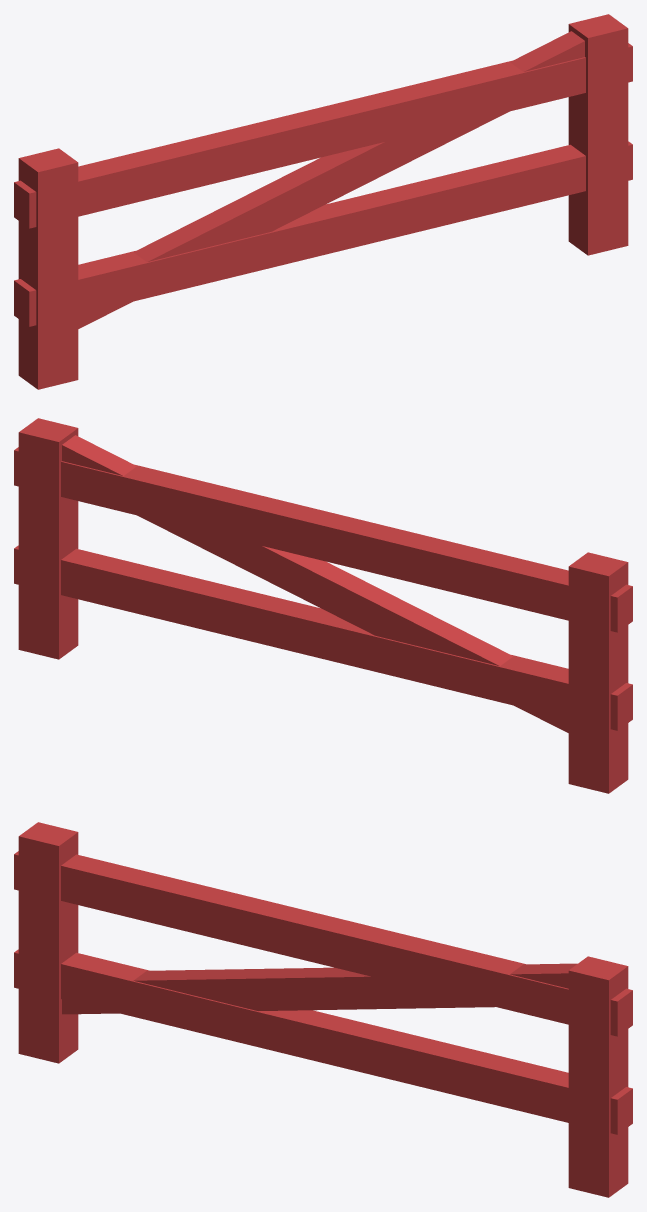
Rendered from gate.glb.
3 renders of one model, top to bottom at view 1: azimuth 30°, elevation 25°; view 2: azimuth 150°, elevation 25°; view 3: azimuth 330°, elevation 25°, orthographic.
Parts seen in each view (by area): view 1: Gate; view 2: Gate; view 3: Gate.
Part boxes in pixels (x1,y1,x2,y2): Gate: (14,14,632,389); Gate: (14,418,632,793); Gate: (14,822,632,1197).
Bounding box in the file's own units: 1.8 × 0.62 × 0.1.
